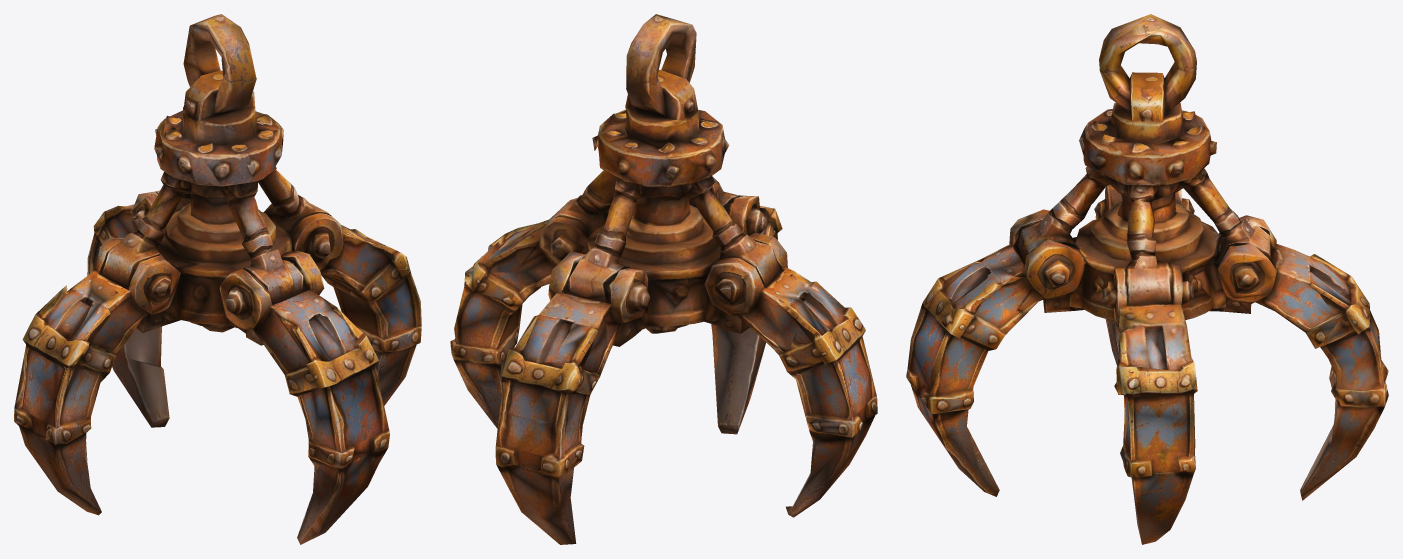
Rendered from jy_lm_crane_claw_hq.glb.
3 renders of one model, left to right at view 1: azimuth 30°, elevation 25°; view 2: azimuth 150°, elevation 25°; view 3: azimuth 270°, elevation 25°, orthographic.
Parts seen in each view (by area): view 1: tripo_node_99b80537-e77a-433d-aab2-5f12855bf9c4; view 2: tripo_node_99b80537-e77a-433d-aab2-5f12855bf9c4; view 3: tripo_node_99b80537-e77a-433d-aab2-5f12855bf9c4.
Part boxes in pixels (<box>): tripo_node_99b80537-e77a-433d-aab2-5f12855bf9c4: <box>14,14,421,544</box>; tripo_node_99b80537-e77a-433d-aab2-5f12855bf9c4: <box>450,14,877,544</box>; tripo_node_99b80537-e77a-433d-aab2-5f12855bf9c4: <box>906,14,1388,544</box>.
Size of the model in its own units: 0.8658 by 0.9799 by 0.9084.
Materials: 1 (1 with a texture image).
